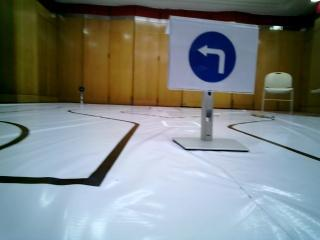left: (181, 26, 250, 89)
